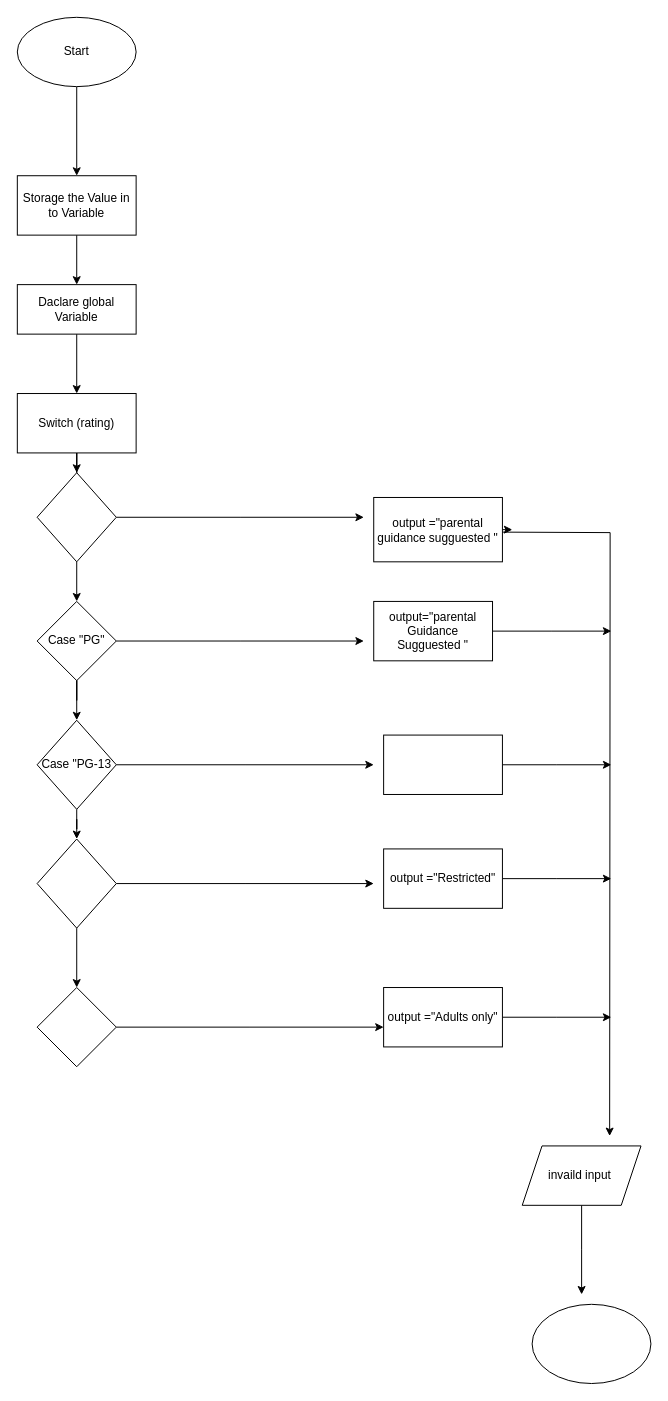
Image size: 668x1401. Some labels were removed from this diagram. The shapes that lost their labels are listed below. From the top down, each one's centre as x and y in pixels, then its label:
pixel 76 517: Case "G"
pixel 442 764: output ="parents strong Cautioned "
pixel 76 883: Case "R"
pixel 76 1027: Case "NC-17"
pixel 591 1343: Finished
